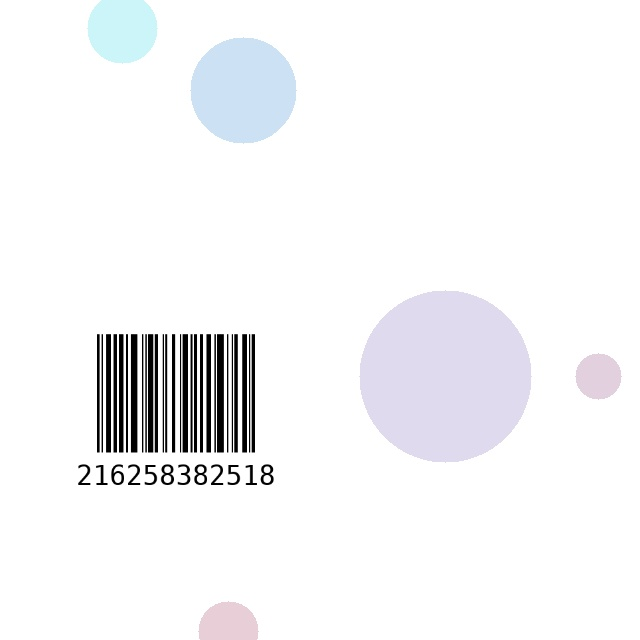barcode: (77, 327, 275, 513)
